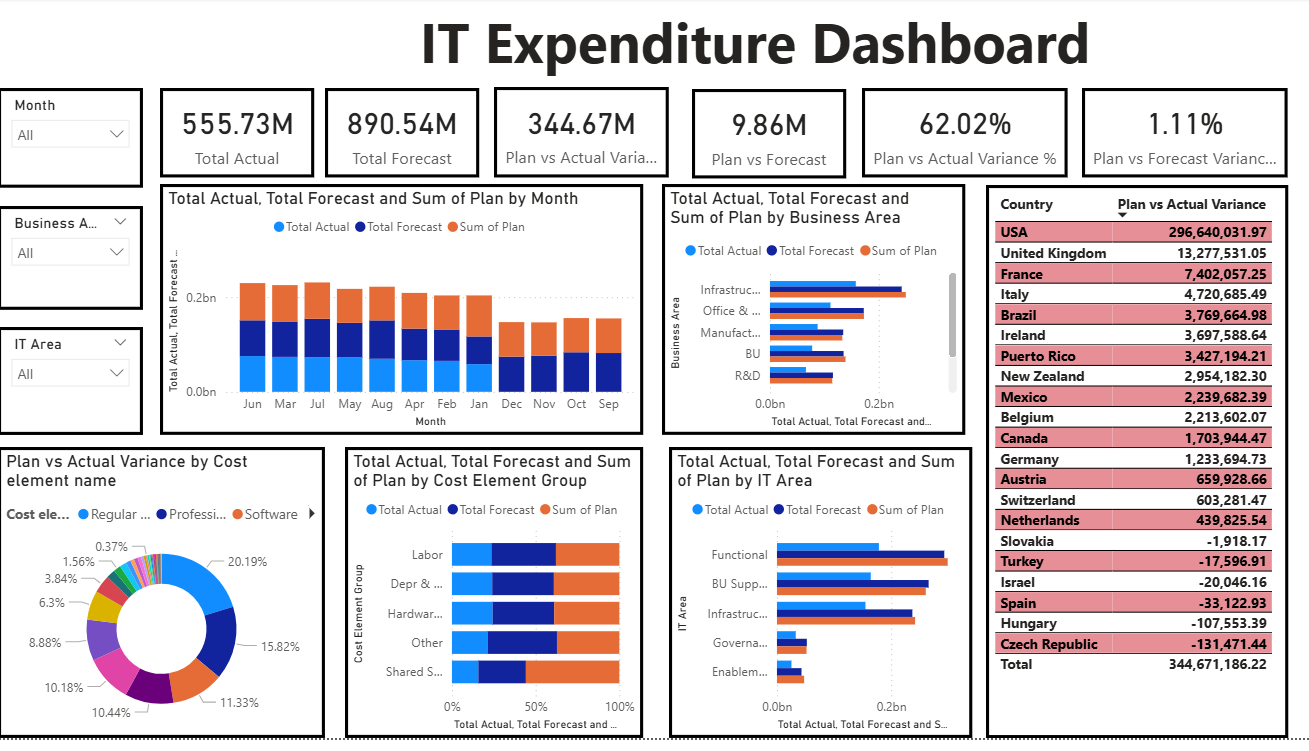

What the dashboard file says about the page in this screenshot:
{"tool":"powerbi","page":{"name":"Page 1","canvas":[1280,720],"ordinal":0},"visuals":[{"type":"textbox","box":[382.2,0,708.1,96.3],"z":0},{"type":"tableEx","fields":{"Values":["Data.Country","Data.Plan vs Actual Variance"]},"box":[961,181.9,293.7,537.9],"z":1000},{"type":"slicer","fields":{"Values":["Data.Month"]},"box":[0,87.5,141,97.3],"z":2000},{"type":"slicer","fields":{"Values":["Data.Business Area"]},"box":[0,202.3,141,101.2],"z":3000},{"type":"slicer","fields":{"Values":["Data.IT Area"]},"box":[0,320,141,105],"z":4000},{"type":"card","fields":{"Values":["Data.Total Actual"]},"box":[157.6,87.5,149.8,86.6],"z":4001},{"type":"card","fields":{"Values":["Data.Total Forecast"]},"box":[318.1,87.5,149.8,86.6],"z":4002},{"type":"card","fields":{"Values":["Data.Plan vs Actual Variance"]},"box":[482.4,86.6,170.2,87.5],"z":4003},{"type":"card","fields":{"Values":["Data.Plan vs Forecast"]},"box":[675,88.5,149.8,86.6],"z":4004},{"type":"card","fields":{"Values":["Data.Plan vs Actual Variance %"]},"box":[840.4,87.5,200.4,86.6],"z":4005},{"type":"card","fields":{"Values":["Data.Plan vs Forecast Variance %"]},"box":[1054.3,87.5,200.4,86.6],"z":4006},{"type":"columnChart","fields":{"Category":["Data.Month"],"Y":["Data.Total Actual","Data.Total Forecast","Sum(Data.Plan)"]},"box":[157.6,180.9,469.8,244.1],"z":4007},{"type":"clusteredBarChart","fields":{"Category":["Data.Business Area"],"Y":["Data.Total Actual","Data.Total Forecast","Sum(Data.Plan)"]},"box":[645.8,180.9,294.7,244.1],"z":4008},{"type":"donutChart","fields":{"Category":["Data.Cost element name"],"Y":["Data.Plan vs Actual Variance"]},"box":[0,436.7,318.1,283],"z":4009},{"type":"hundredPercentStackedBarChart","fields":{"Category":["Data.Cost Element Group"],"Y":["Data.Total Actual","Data.Total Forecast","Sum(Data.Plan)"]},"box":[337.5,436.7,289.8,283],"z":4010},{"type":"clusteredBarChart","fields":{"Category":["Data.IT Area"],"Y":["Data.Total Actual","Data.Total Forecast","Sum(Data.Plan)"]},"box":[652.6,436.7,294.7,283],"z":4011}]}

Visuals, with their boxes in screenshot pixels (x1, y1, x2, y2), scaled from the page's 1280x720 canvas onto the 1309x751 screenshot:
textbox: 391/0/1115/100
tableEx - Data.Country x Data.Plan vs Actual Variance: 983/190/1283/750
slicer - Data.Month: 0/91/144/193
slicer - Data.Business Area: 0/211/144/317
slicer - Data.IT Area: 0/334/144/443
card - Data.Total Actual: 161/91/314/182
card - Data.Total Forecast: 325/91/479/182
card - Data.Plan vs Actual Variance: 493/90/667/182
card - Data.Plan vs Forecast: 690/92/843/183
card - Data.Plan vs Actual Variance %: 859/91/1064/182
card - Data.Plan vs Forecast Variance %: 1078/91/1283/182
columnChart - Data.Month x Data.Total Actual: 161/189/642/443
clusteredBarChart - Data.Business Area x Data.Total Actual: 660/189/962/443
donutChart - Data.Cost element name x Data.Plan vs Actual Variance: 0/456/325/750
hundredPercentStackedBarChart - Data.Cost Element Group x Data.Total Actual: 345/456/642/750
clusteredBarChart - Data.IT Area x Data.Total Actual: 667/456/969/750
